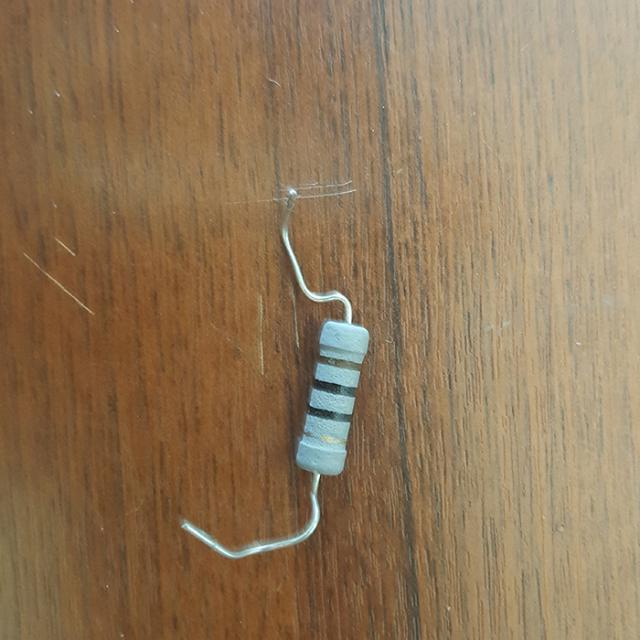black: (314, 377, 356, 394), (307, 405, 351, 421)
brown: (317, 354, 360, 368)
gold: (303, 432, 345, 443)
resistor: (275, 297, 389, 499)
